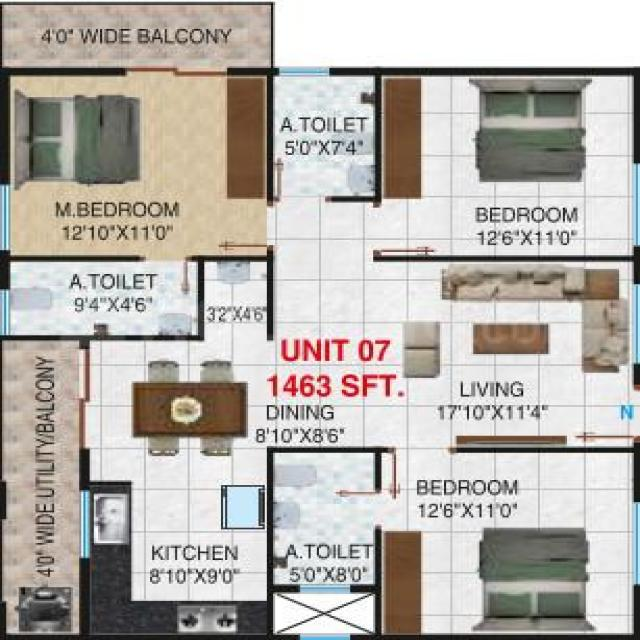Balcony-Sitout: (0, 3, 277, 70)
Bedroom: (374, 70, 640, 263), (380, 445, 640, 640)
Bedroom with Toilet: (0, 69, 273, 341)
Dining: (130, 359, 251, 465)
Kitchen: (78, 479, 276, 636)
Living: (372, 256, 640, 450)
Toilet: (4, 255, 205, 340), (270, 449, 382, 595), (264, 70, 376, 204)
Utility: (0, 337, 87, 633)
